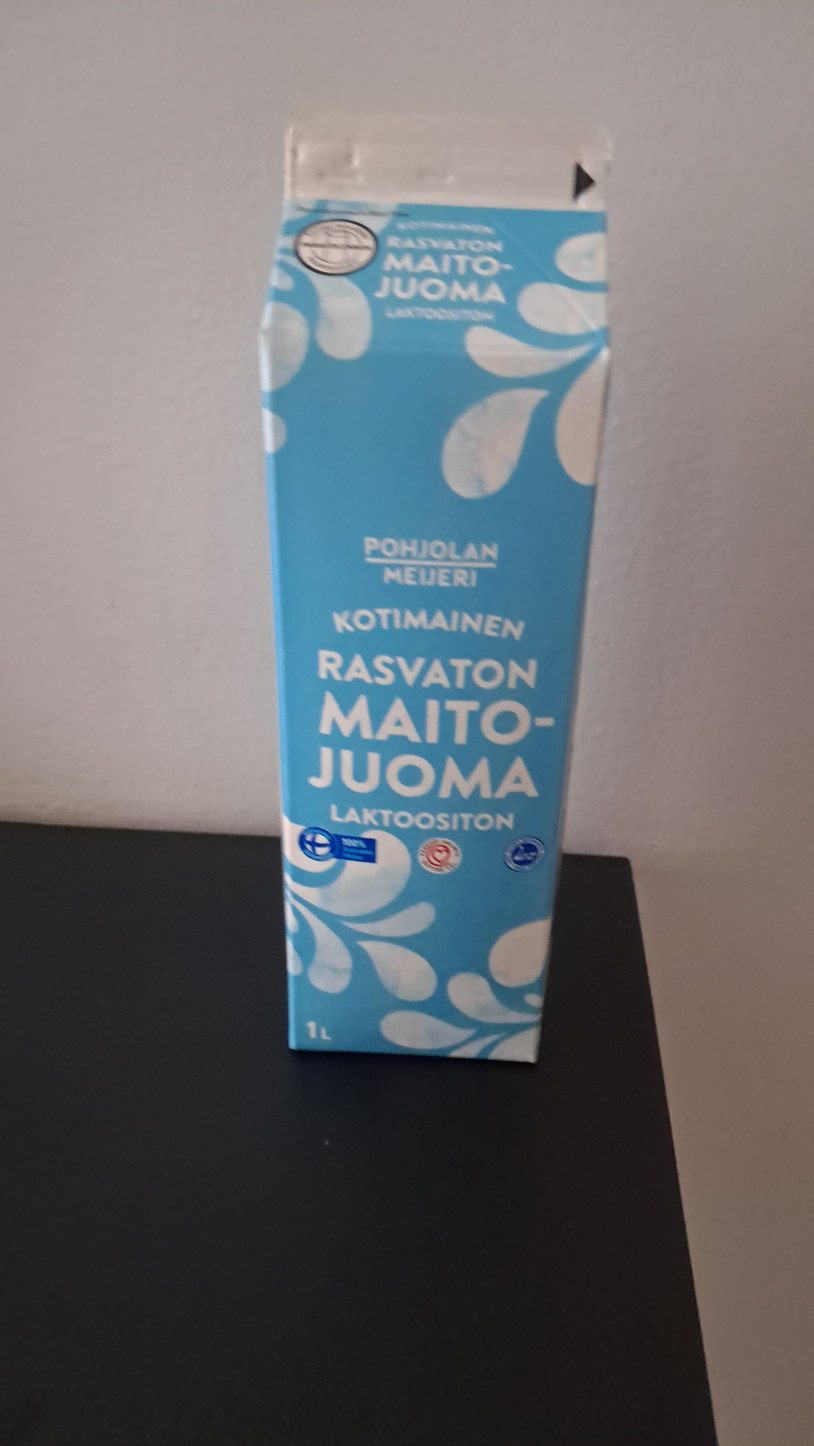Dryckeskartong: (257, 109, 615, 1068)
